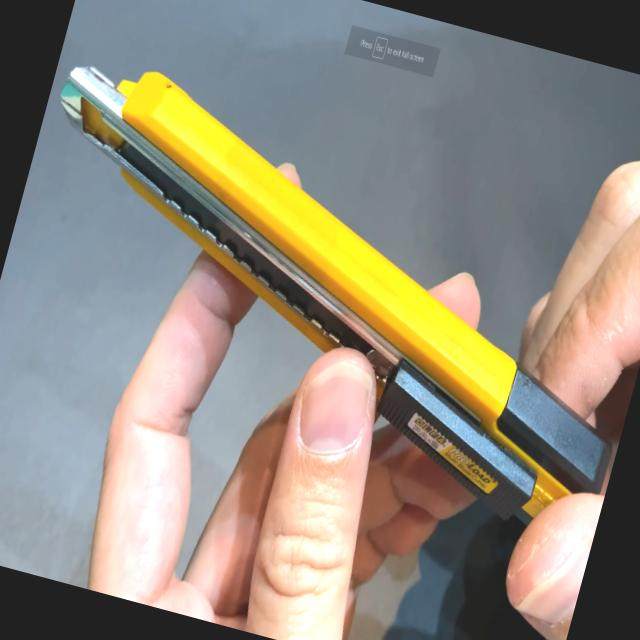cutter: (0, 17, 640, 630)
